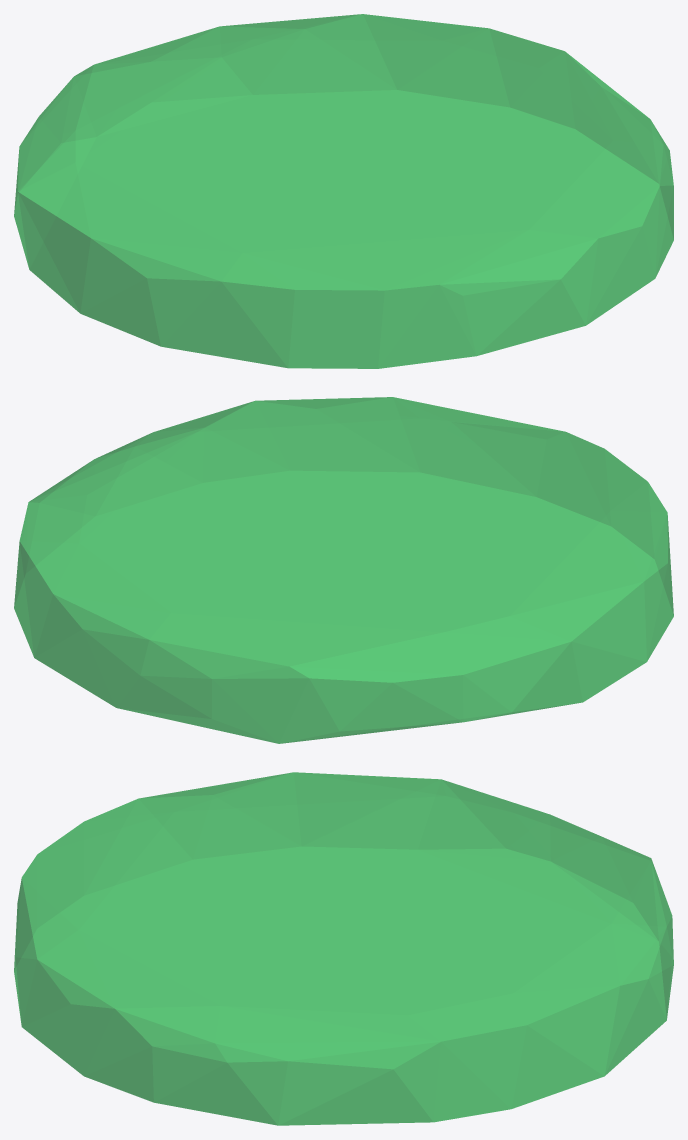
3 renders of one model, top to bottom at view 1: azimuth 30°, elevation 25°; view 2: azimuth 150°, elevation 25°; view 3: azimuth 270°, elevation 25°, orthographic.
Visible parts, largest first — view 1: Shape_IndexedFaceSet.001_Shape_IndexedFaceSet.13926; view 2: Shape_IndexedFaceSet.001_Shape_IndexedFaceSet.13926; view 3: Shape_IndexedFaceSet.001_Shape_IndexedFaceSet.13926.
Boxes of the visible parts, <box> form: Shape_IndexedFaceSet.001_Shape_IndexedFaceSet.13926: <box>14,14,673,368</box>; Shape_IndexedFaceSet.001_Shape_IndexedFaceSet.13926: <box>14,397,673,743</box>; Shape_IndexedFaceSet.001_Shape_IndexedFaceSet.13926: <box>14,772,673,1125</box>.
Bounding box in the file's own units: 0.4867 × 0.0677 × 0.4861.
